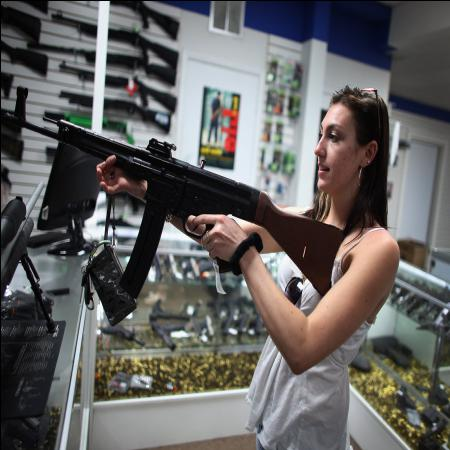Pistol: (152, 314, 190, 355)
